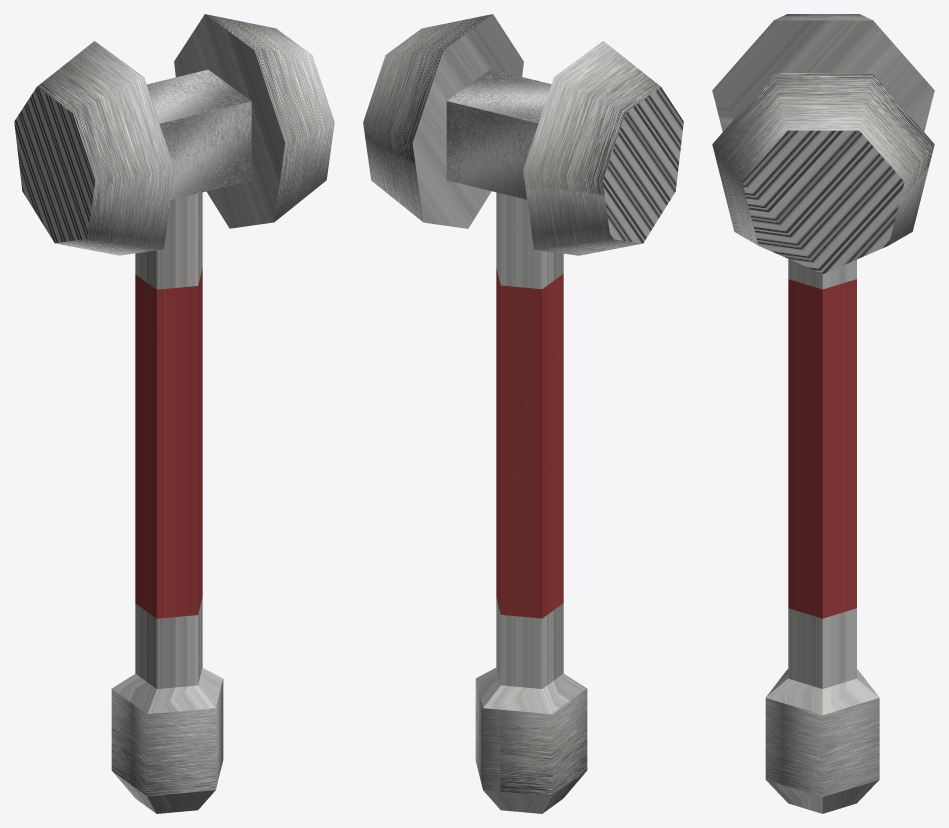
The model's file is pestle.FBX.
3 views of the same model, side by side, from view 1: azimuth 30°, elevation 25°; view 2: azimuth 150°, elevation 25°; view 3: azimuth 270°, elevation 25° (orthographic).
Parts seen in each view (by area): view 1: Cylinder003, Cylinder001, Object002, Box001, Object001; view 2: Cylinder003, Cylinder001, Object002, Box001, Object001; view 3: Cylinder003, Object002, Cylinder001, Object001.
Part boxes in pixels (bbox=[...]): Cylinder003: bbox=[37, 14, 334, 255]; Cylinder001: bbox=[111, 192, 223, 813]; Object002: bbox=[135, 268, 202, 618]; Box001: bbox=[146, 69, 251, 199]; Object001: bbox=[14, 87, 95, 243]; Cylinder003: bbox=[363, 14, 660, 255]; Cylinder001: bbox=[475, 192, 587, 813]; Object002: bbox=[496, 268, 563, 618]; Box001: bbox=[446, 69, 551, 199]; Object001: bbox=[602, 87, 683, 243]; Cylinder003: bbox=[712, 14, 934, 245]; Object002: bbox=[788, 279, 856, 618]; Cylinder001: bbox=[765, 259, 879, 813]; Object001: bbox=[742, 130, 904, 273].
Bounding box in the file's own units: 40.19 × 121 × 32.36.
4 materials, 4 textured.
